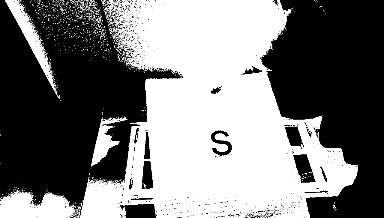S: (206, 126, 234, 157)
